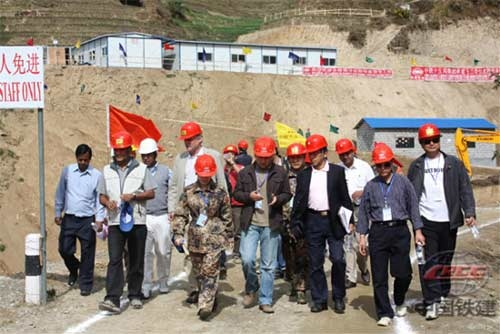none: (72, 143, 95, 170)
red: (370, 143, 396, 179), (417, 123, 444, 157), (251, 136, 277, 168), (305, 134, 330, 166), (179, 120, 202, 151), (193, 154, 216, 184), (110, 135, 134, 163), (334, 136, 355, 163), (286, 141, 305, 169), (224, 144, 237, 163), (237, 141, 248, 153)
white: (138, 139, 158, 166)
